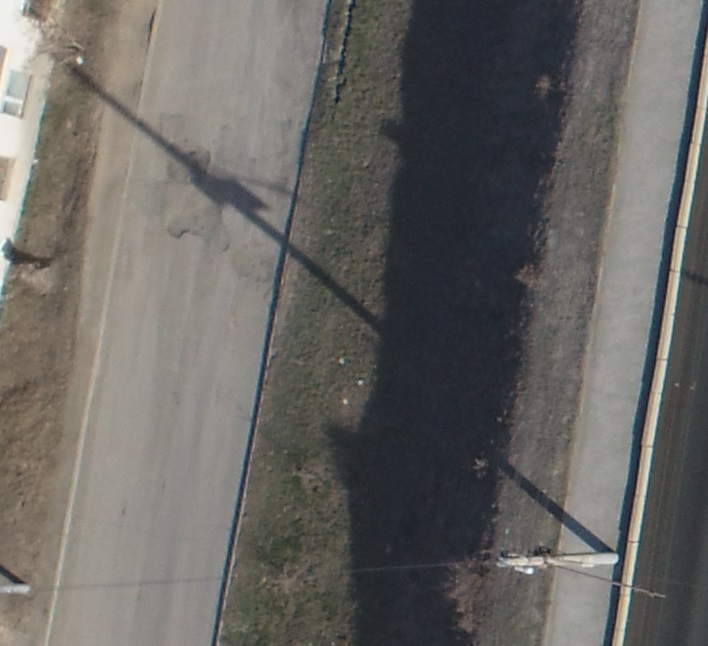opora: (480, 490, 620, 578)
